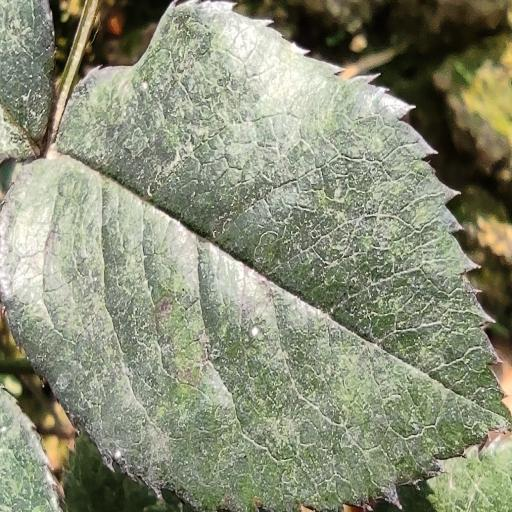healthy_leaf: (0, 3, 507, 511)
